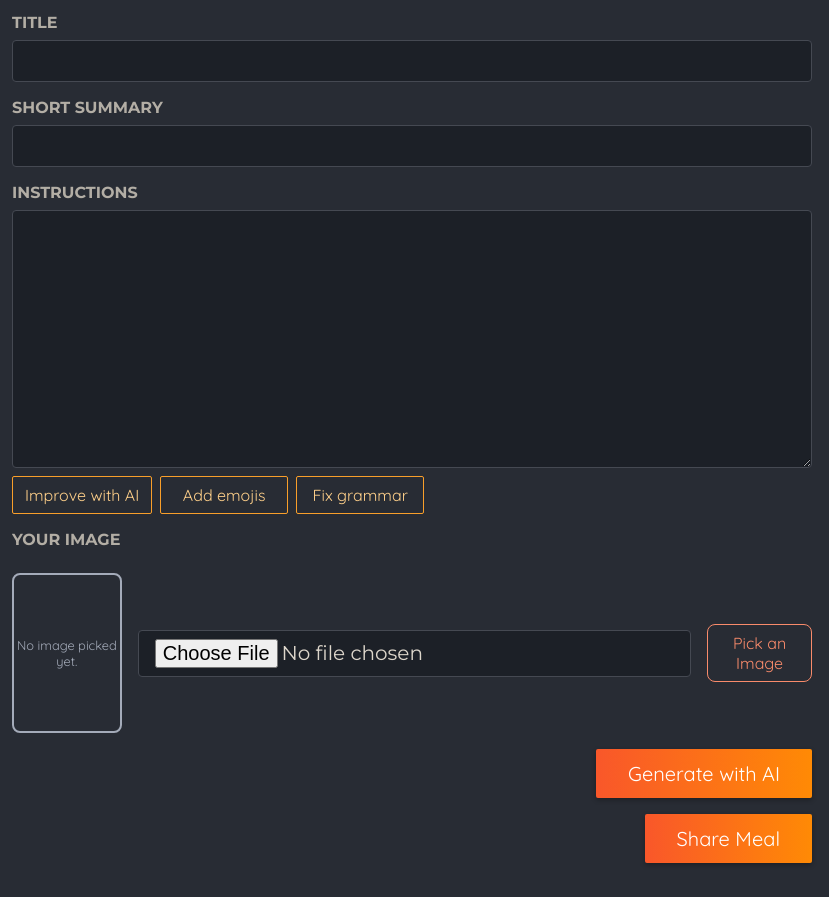
it: ShareMealForm › blocks recipe improvement when instructions are empty
Step 1. Click the button "Improve with AI" → [82, 495], box left=12, top=476, right=152, bottom=514
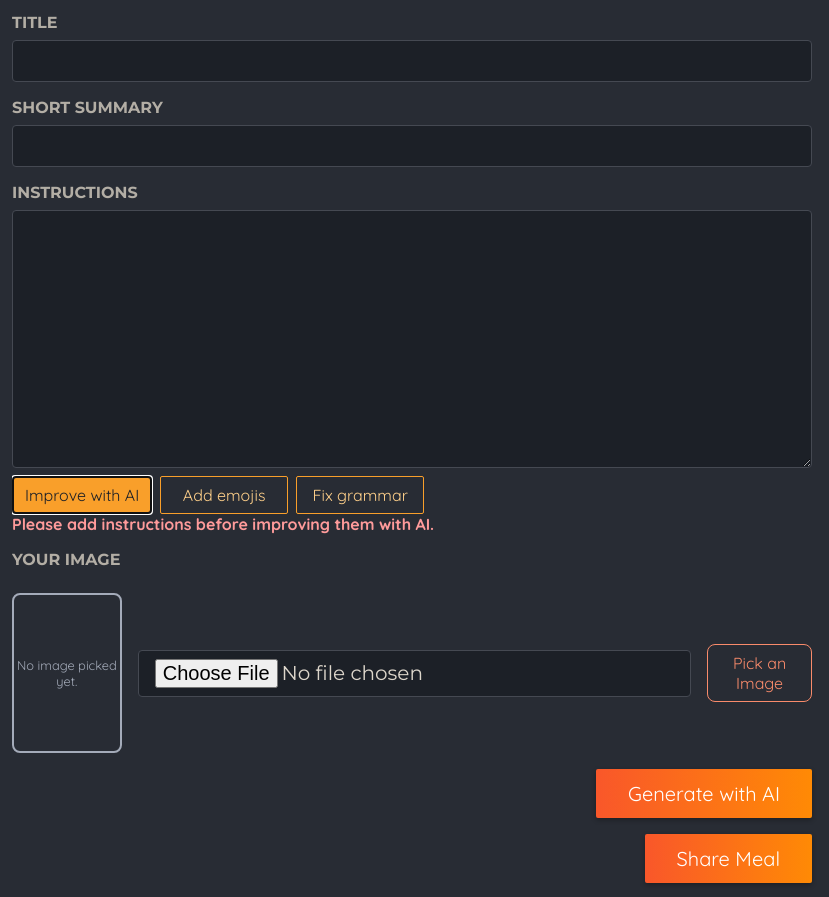
Expected: the text "Please add instructions before improving them with AI." is shown, left=12, top=514, right=434, bottom=534
